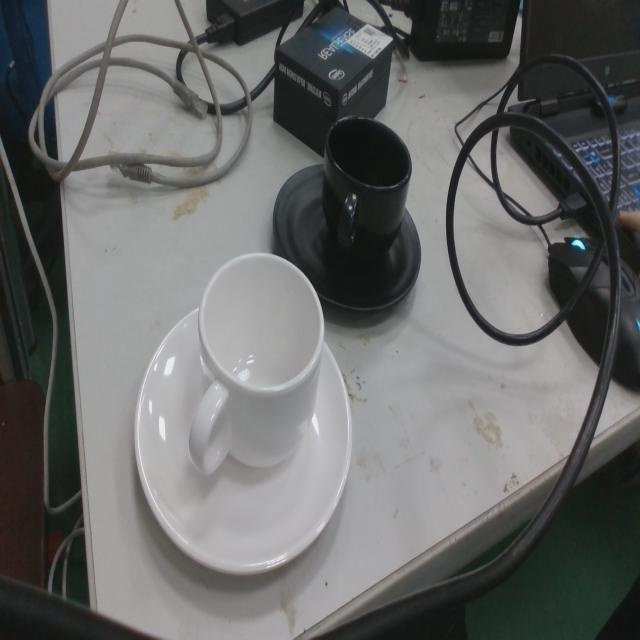black: (269, 113, 424, 323)
white: (130, 247, 354, 585)
